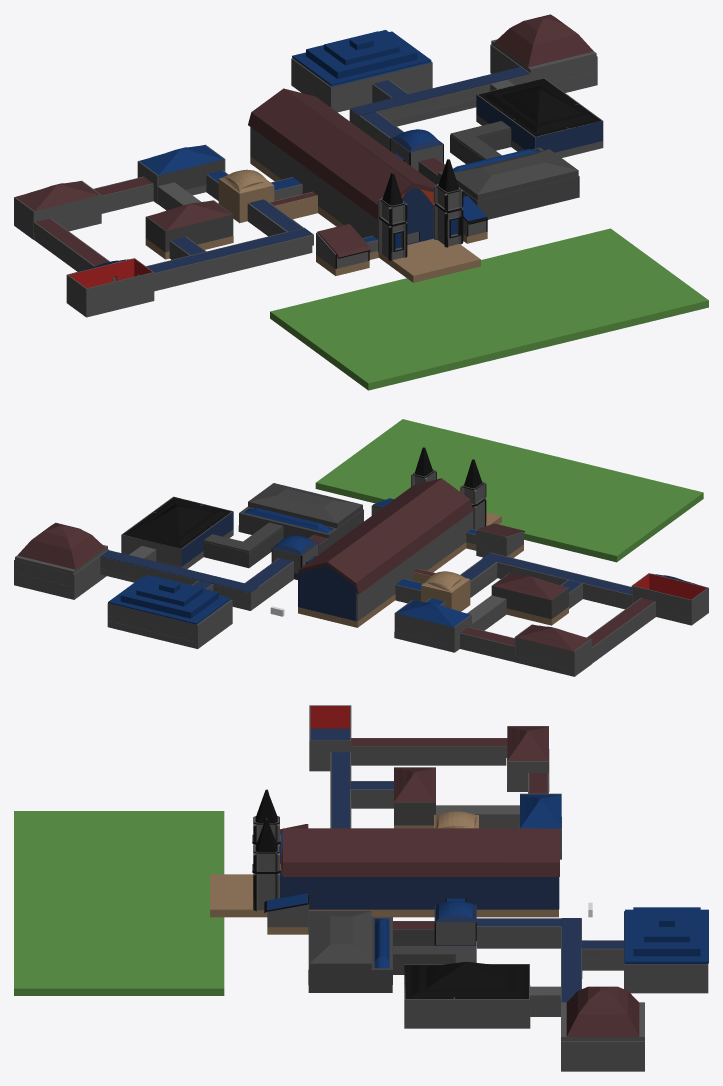
Rendered from Mapa2.fbx.
3 renders of one model, top to bottom at view 1: azimuth 30°, elevation 25°; view 2: azimuth 150°, elevation 25°; view 3: azimuth 270°, elevation 25°, orthographic. The views are drawn at different scales.
Visible parts, largest first — view 1: Pasto, Cube, Cuartos, CocinaComedorAlmacen, EnfermeriaCeldas, BañosLavadero, PasilloEsteCocinaBañoCuartos, PasilloOesteB, SalaSacrificio, SalaReunionArchivo, CuatoSacerdote, SalaEstudio (+12 smaller); view 2: Pasto, Cube, Cuartos, BañosLavadero, CocinaComedorAlmacen, EnfermeriaCeldas, PasilloEsteCocinaBañoCuartos, CuatoSacerdote, SalaEstudio, SalaReunionArchivo, SalaSacrificio, PasilloOesteB (+11 smaller); view 3: Pasto, Cube, CocinaComedorAlmacen, Cuartos, EnfermeriaCeldas, BañosLavadero, PasilloEsteCocinaBañoCuartos, PasilloSacrificio, SalaReunionArchivo, SalaSacrificio, CuatoSacerdote, Torre entrada.002 (+10 smaller).
Boxes of the visible parts, x1=… form: Pasto: x1=270, y1=228, x2=708, y2=390; Cube: x1=248, y1=88, x2=480, y2=282; Cuartos: x1=291, y1=30, x2=432, y2=112; CocinaComedorAlmacen: x1=476, y1=78, x2=603, y2=157; EnfermeriaCeldas: x1=438, y1=147, x2=579, y2=219; BañosLavadero: x1=490, y1=14, x2=597, y2=92; PasilloEsteCocinaBañoCuartos: x1=349, y1=67, x2=530, y2=150; PasilloOesteB: x1=138, y1=228, x2=313, y2=291; SalaSacrificio: x1=66, y1=258, x2=154, y2=317; SalaReunionArchivo: x1=145, y1=200, x2=233, y2=259; CuatoSacerdote: x1=14, y1=180, x2=101, y2=239; SalaEstudio: x1=137, y1=144, x2=225, y2=203; Pasto: x1=315, y1=419, x2=703, y2=562; Cube: x1=296, y1=478, x2=501, y2=627; Cuartos: x1=107, y1=575, x2=232, y2=648; BañosLavadero: x1=14, y1=522, x2=108, y2=599; CocinaComedorAlmacen: x1=121, y1=496, x2=233, y2=568; EnfermeriaCeldas: x1=238, y1=483, x2=363, y2=546; PasilloEsteCocinaBañoCuartos: x1=100, y1=546, x2=293, y2=610; CuatoSacerdote: x1=514, y1=624, x2=591, y2=676; SalaEstudio: x1=394, y1=600, x2=471, y2=652; SalaReunionArchivo: x1=491, y1=573, x2=568, y2=625; SalaSacrificio: x1=631, y1=573, x2=708, y2=625; PasilloOesteB: x1=482, y1=552, x2=631, y2=609; Pasto: x1=14, y1=811, x2=224, y2=995; Cube: x1=210, y1=828, x2=559, y2=917; CocinaComedorAlmacen: x1=404, y1=962, x2=530, y2=1028; Cuartos: x1=624, y1=907, x2=708, y2=993; EnfermeriaCeldas: x1=308, y1=911, x2=392, y2=992; BañosLavadero: x1=561, y1=986, x2=644, y2=1071; PasilloEsteCocinaBañoCuartos: x1=476, y1=918, x2=623, y2=1016; PasilloSacrificio: x1=351, y1=738, x2=507, y2=765; SalaReunionArchivo: x1=394, y1=767, x2=435, y2=828; SalaSacrificio: x1=309, y1=705, x2=351, y2=771; CuatoSacerdote: x1=507, y1=726, x2=549, y2=791; Torre entrada.002: x1=252, y1=818, x2=280, y2=911.
Size of the model in its own units: 18474 by 2704 by 16532.
